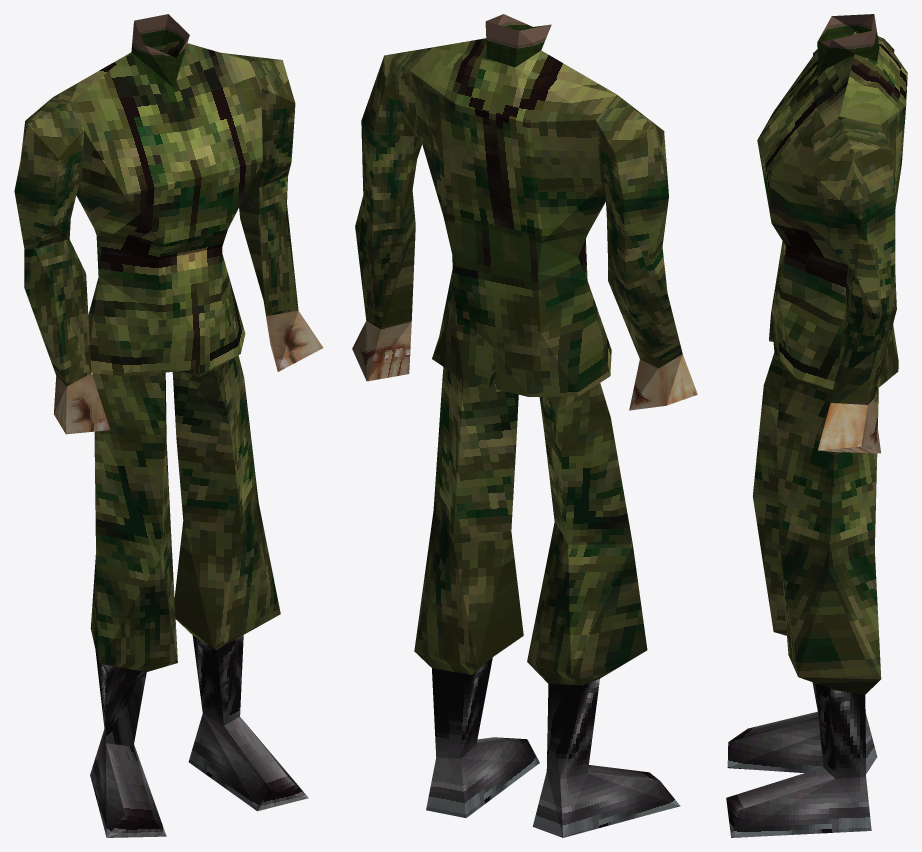
The model's file is primary_333.glb.
3 views of the same model, side by side, from view 1: azimuth 30°, elevation 25°; view 2: azimuth 150°, elevation 25°; view 3: azimuth 270°, elevation 25° (orthographic). The views are drawn at different scales.
Parts seen in each view (by area): view 1: Object; view 2: Object; view 3: Object.
Boxes of the visible parts, x1=… form: Object: x1=14, y1=14, x2=323, y2=837; Object: x1=352, y1=14, x2=697, y2=837; Object: x1=726, y1=14, x2=907, y2=837.
Bounding box in the file's own units: 0.7425 × 1.83 × 0.3886.
Materials: 85 (85 with a texture image).
